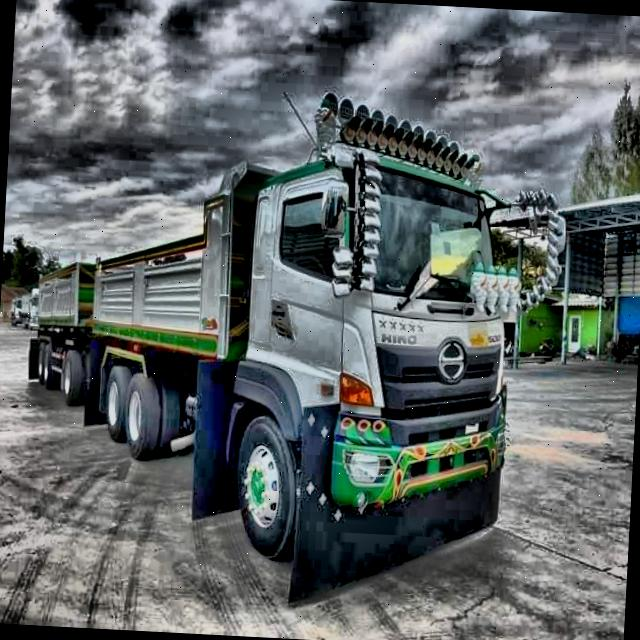trailer: (27, 85, 524, 578)
